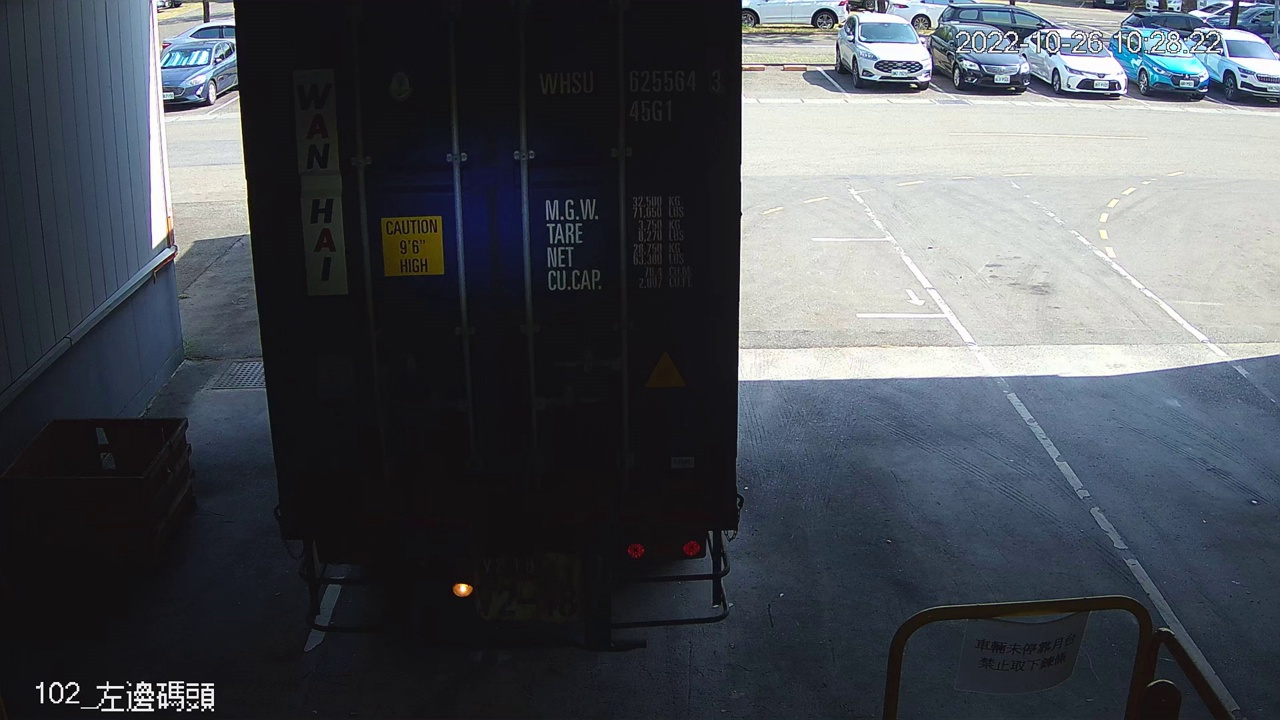container: (530, 59, 729, 130)
